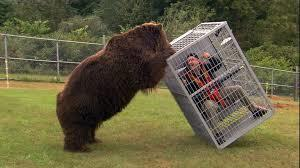bear: (55, 20, 177, 153)
